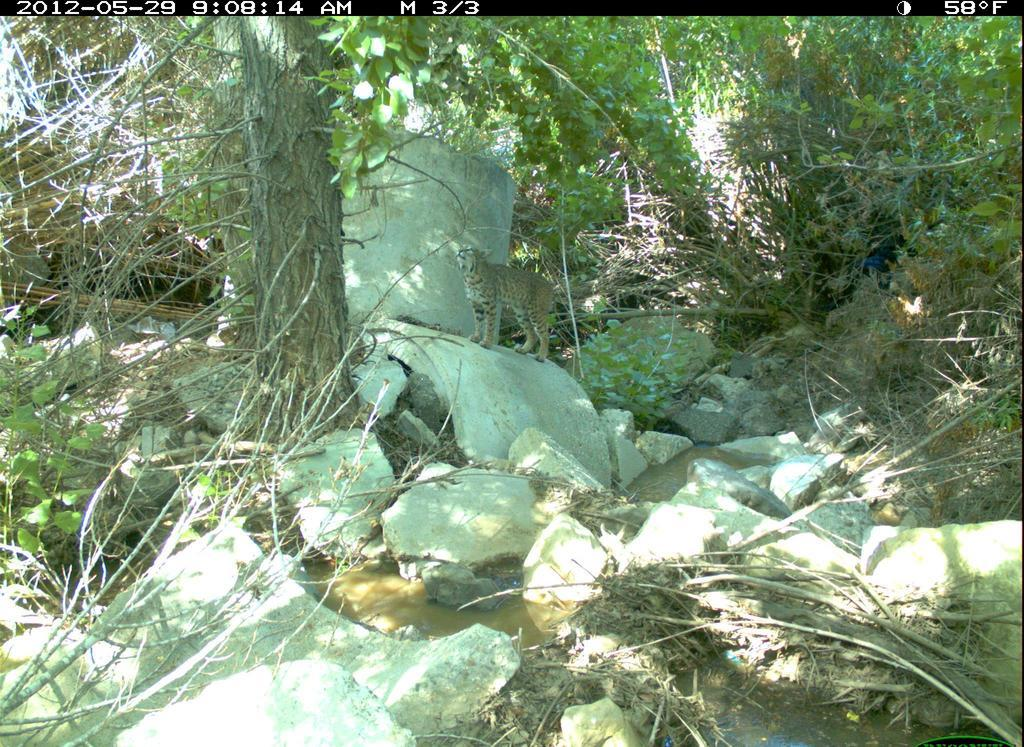bobcat: (444, 233, 568, 371)
